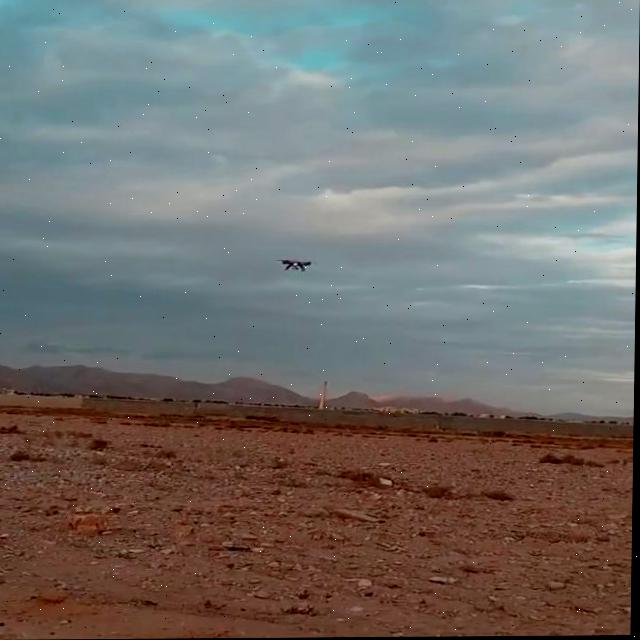drone: (272, 250, 320, 278)
